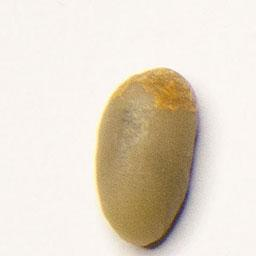longberry: (92, 64, 201, 250)
